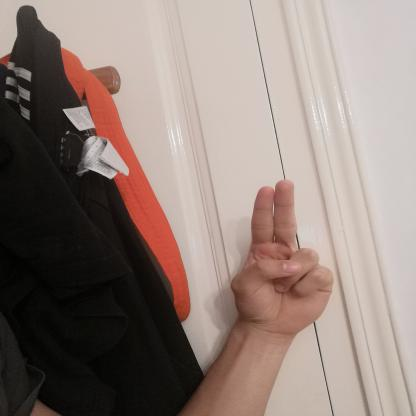TA: (214, 164, 347, 345)
